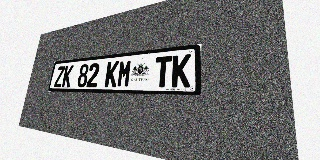2: (86, 63, 100, 87)
8: (77, 64, 90, 87)
K: (171, 54, 191, 87), (104, 61, 119, 87), (61, 65, 74, 87)
M: (116, 59, 132, 87)
T: (154, 56, 172, 87)
Z: (54, 66, 65, 87)
